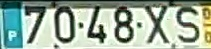0: (52, 5, 76, 44)
4: (85, 4, 108, 44)
7: (23, 4, 47, 45)
8: (112, 5, 134, 44)
S: (174, 5, 200, 44)
X: (143, 4, 170, 44)
